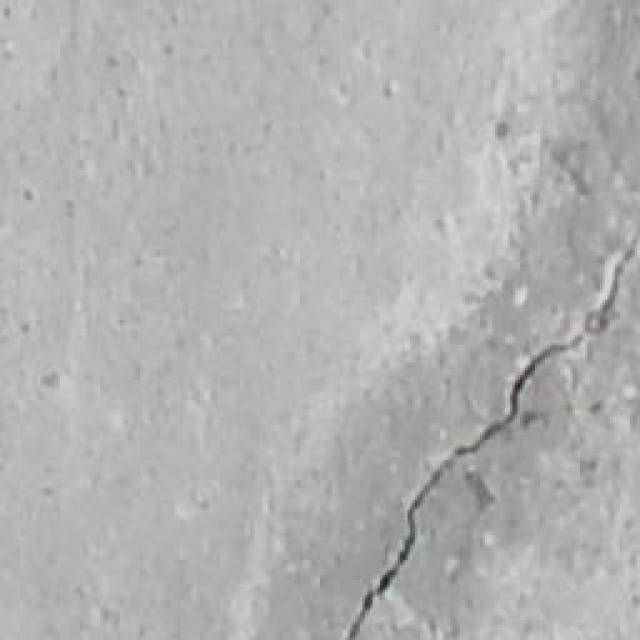concrete-crack: (343, 227, 640, 640)
